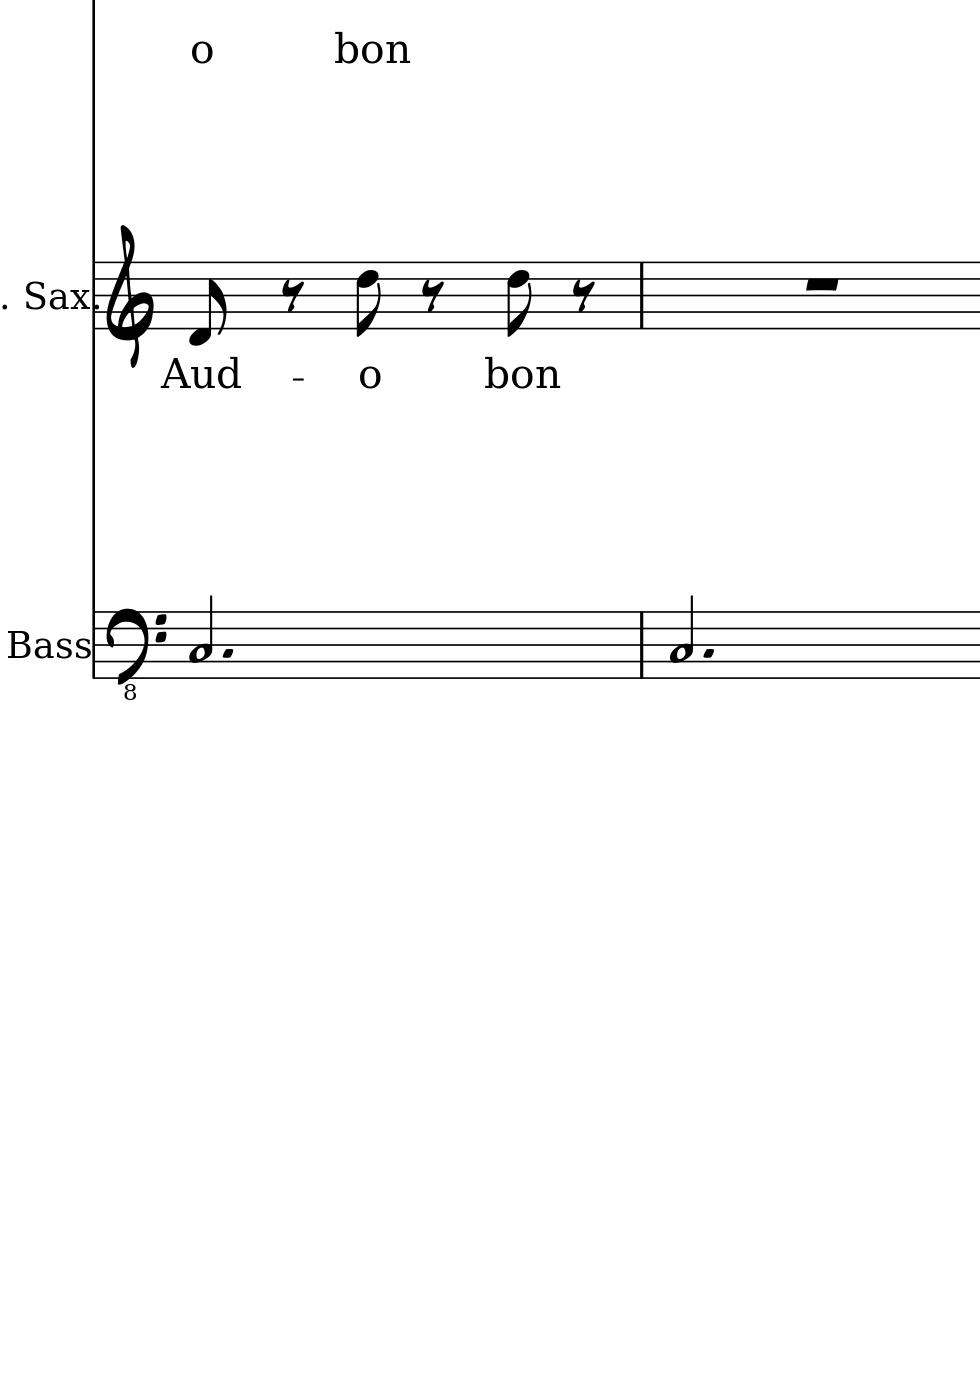2_3: (187, 595, 213, 680), (669, 594, 694, 681)
8_-1: (187, 259, 227, 345)
8_6: (504, 260, 533, 339), (354, 260, 382, 340)
Bass: (4, 627, 92, 662)
Gclef: (105, 222, 156, 368)
Lower_Fclef: (104, 604, 167, 704)
Rests1: (800, 273, 843, 295)
Rests8: (568, 278, 597, 313), (418, 279, 444, 313), (279, 279, 305, 312)
Sax: (22, 276, 90, 314)
Single_barline: (87, 262, 103, 331), (633, 613, 650, 677), (633, 262, 649, 329), (88, 612, 101, 678)
dot: (218, 645, 233, 659), (700, 646, 715, 660)
